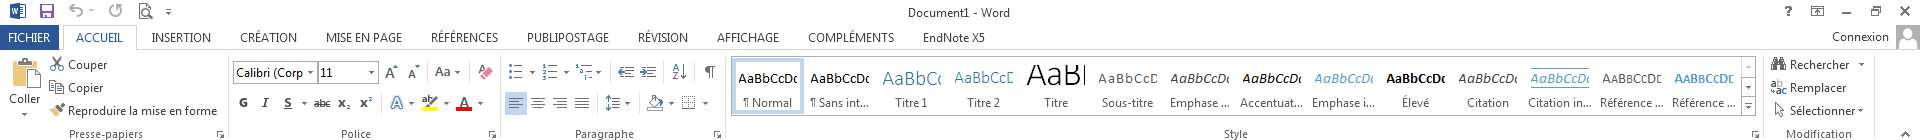texte: (233, 44, 320, 79), (1833, 25, 1920, 49), (233, 63, 332, 84), (909, 0, 969, 25), (311, 56, 348, 90), (10, 2, 83, 18), (1027, 65, 1085, 85), (809, 29, 894, 42), (811, 98, 927, 107), (50, 56, 107, 72), (1898, 9, 1918, 54), (421, 95, 471, 112), (69, 106, 137, 118), (432, 29, 498, 42), (49, 80, 103, 95), (647, 95, 696, 111), (883, 71, 940, 85), (10, 90, 40, 114), (143, 106, 217, 115), (955, 71, 1013, 84), (1791, 106, 1862, 115), (528, 33, 609, 42), (811, 72, 869, 84), (1171, 72, 1229, 84), (1531, 72, 1589, 84), (338, 120, 371, 140), (327, 33, 402, 42), (758, 93, 789, 114), (740, 72, 797, 84), (1100, 72, 1157, 84), (1243, 72, 1300, 84), (1315, 72, 1373, 84), (1387, 72, 1445, 84), (1460, 72, 1517, 84), (1767, 44, 1785, 79), (744, 98, 791, 112), (1791, 84, 1847, 95), (1468, 90, 1491, 115), (1529, 90, 1553, 115), (986, 0, 1009, 25), (1603, 74, 1660, 84), (1675, 74, 1733, 84), (576, 130, 633, 140), (132, 9, 144, 54), (369, 61, 394, 82), (1600, 90, 1621, 115), (1673, 90, 1693, 115), (718, 33, 779, 42), (924, 33, 984, 42), (140, 2, 171, 18), (152, 33, 211, 42), (1221, 120, 1247, 140), (1791, 60, 1849, 69), (1787, 130, 1851, 138), (241, 33, 296, 42), (1240, 98, 1294, 107), (1044, 91, 1062, 117), (1610, 98, 1660, 107), (50, 90, 64, 122), (1771, 90, 1784, 122), (1682, 98, 1731, 107), (639, 33, 687, 42), (1408, 95, 1429, 114), (76, 33, 122, 42), (313, 99, 350, 109), (1171, 98, 1200, 111), (902, 93, 920, 114), (1103, 98, 1142, 107), (844, 93, 860, 114), (975, 93, 991, 114), (1052, 93, 1068, 114), (107, 131, 142, 140), (1319, 101, 1365, 107), (1400, 90, 1411, 115), (827, 93, 840, 114), (724, 59, 732, 91), (1109, 101, 1153, 107), (1177, 101, 1218, 107), (1249, 101, 1289, 107), (647, 64, 680, 71), (485, 119, 496, 140), (70, 130, 100, 138), (435, 68, 460, 76), (1360, 93, 1370, 114), (1476, 101, 1509, 107), (1537, 101, 1569, 107), (479, 65, 492, 79), (673, 64, 686, 79), (109, 4, 121, 17), (391, 96, 403, 109), (1330, 98, 1342, 111), (640, 69, 656, 77), (1811, 6, 1824, 16), (705, 66, 715, 79), (969, 98, 981, 107), (1771, 88, 1787, 95), (1900, 6, 1910, 16), (1573, 101, 1588, 107), (284, 98, 291, 109), (239, 98, 247, 107), (1531, 68, 1589, 69), (1771, 81, 1782, 87), (393, 65, 420, 68), (262, 98, 269, 107), (360, 99, 369, 107), (1900, 131, 1910, 138), (994, 98, 1000, 107), (217, 131, 224, 138), (714, 131, 721, 138), (1752, 131, 1760, 138), (1859, 63, 1864, 66), (302, 102, 307, 106), (409, 102, 414, 106), (444, 102, 449, 106), (478, 102, 482, 106), (669, 102, 673, 106), (703, 102, 708, 106), (369, 97, 372, 101), (1842, 12, 1851, 14), (22, 113, 27, 115), (973, 14, 977, 14)
